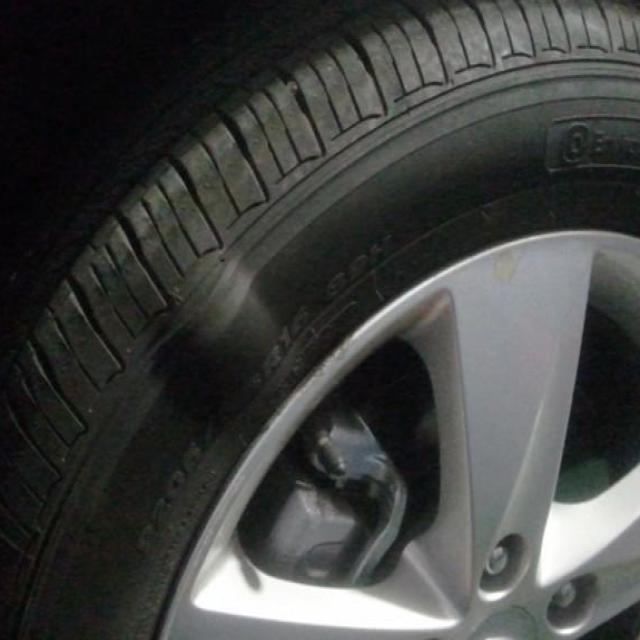Bulge: (149, 214, 303, 445)
